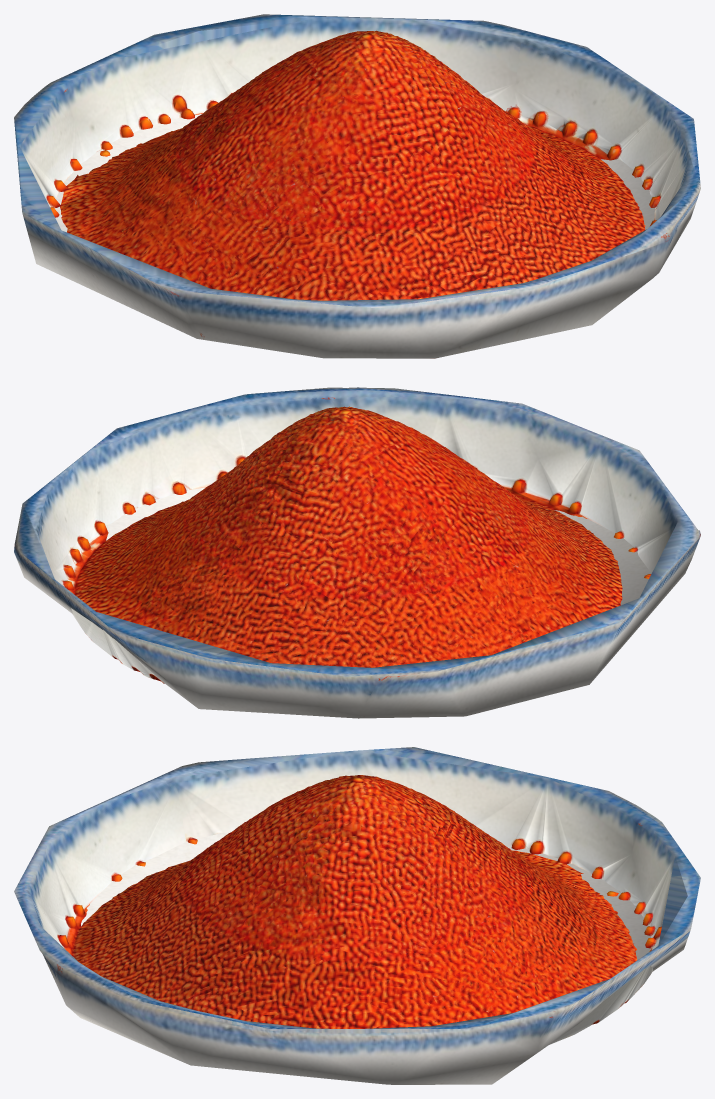
Rendered from skewer-chili.glb.
3 views of the same model, one above another, from view 1: azimuth 30°, elevation 25°; view 2: azimuth 150°, elevation 25°; view 3: azimuth 270°, elevation 25° (orthographic). The views are drawn at different scales.
Visible parts, largest first — view 1: mesh; view 2: mesh; view 3: mesh.
Part boxes in pixels (<box>): mesh: <box>14,14,700,358</box>; mesh: <box>14,387,700,718</box>; mesh: <box>14,747,700,1084</box>.
Bounding box in the file's own units: 1.92 × 0.6319 × 1.96.
1 material, 1 textured.
